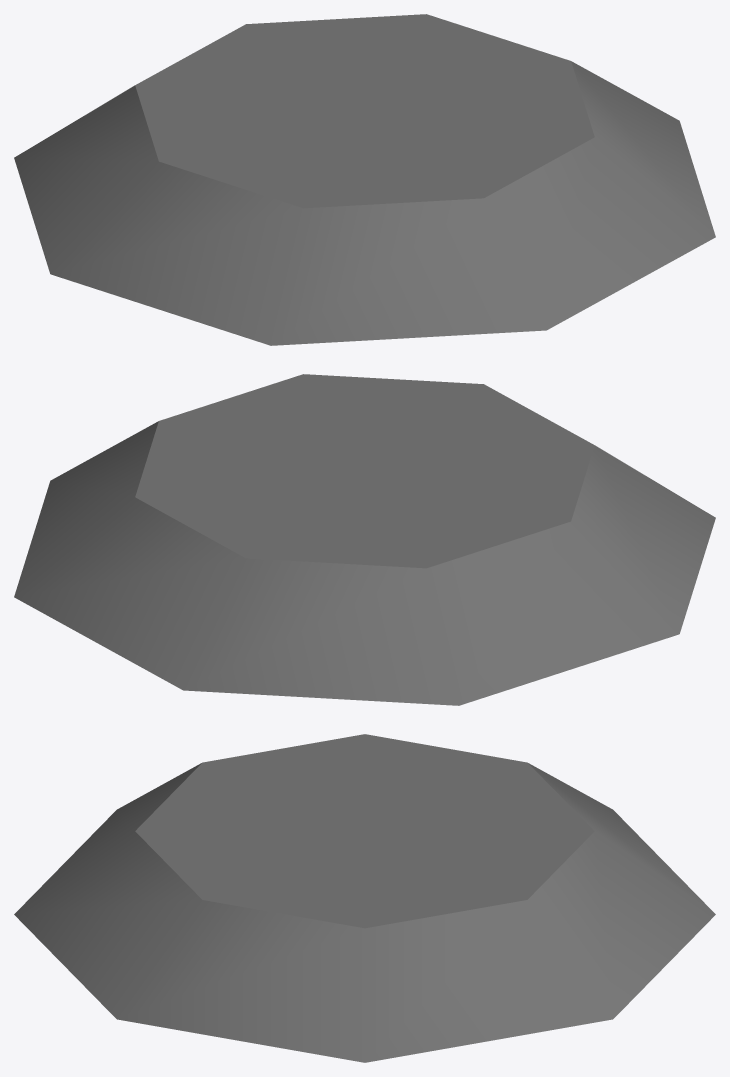
File: Collider_Cylinder.FBX
3 views of the same model, one above another, from view 1: azimuth 30°, elevation 25°; view 2: azimuth 150°, elevation 25°; view 3: azimuth 270°, elevation 25° (orthographic). The views are drawn at different scales.
Parts seen in each view (by area): view 1: Collider_Cylinder; view 2: Collider_Cylinder; view 3: Collider_Cylinder.
Boxes of the visible parts, bbox=[...] form: Collider_Cylinder: bbox=[14, 14, 715, 345]; Collider_Cylinder: bbox=[14, 374, 715, 705]; Collider_Cylinder: bbox=[14, 734, 715, 1062].
Bounding box in the file's own units: 153 × 20 × 153.
1 material, 1 textured.
